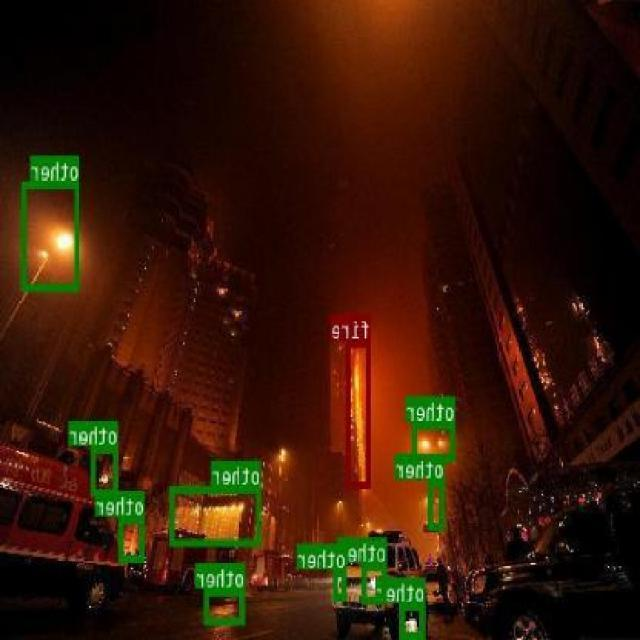Fire: (346, 338, 372, 488)
